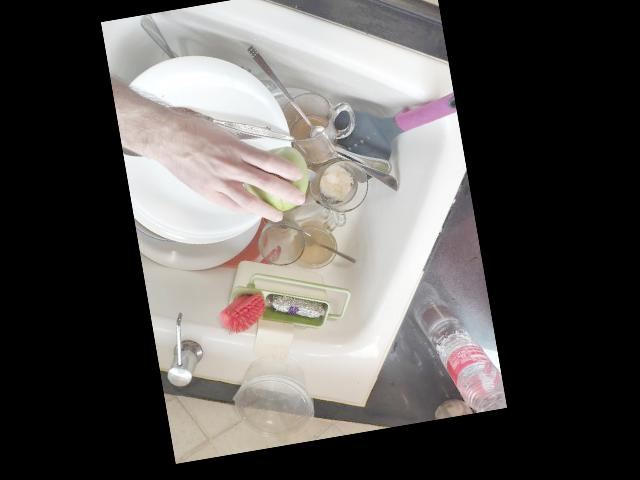apple: (236, 140, 313, 217)
